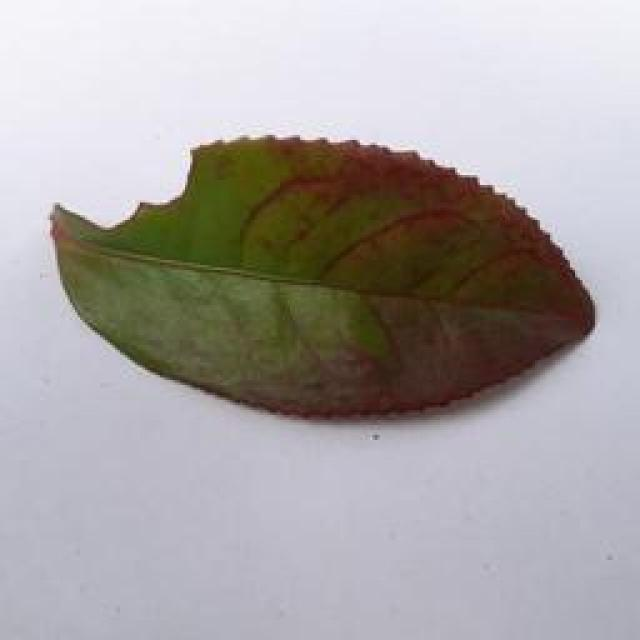Red Leaf Spot: (17, 126, 599, 426)
